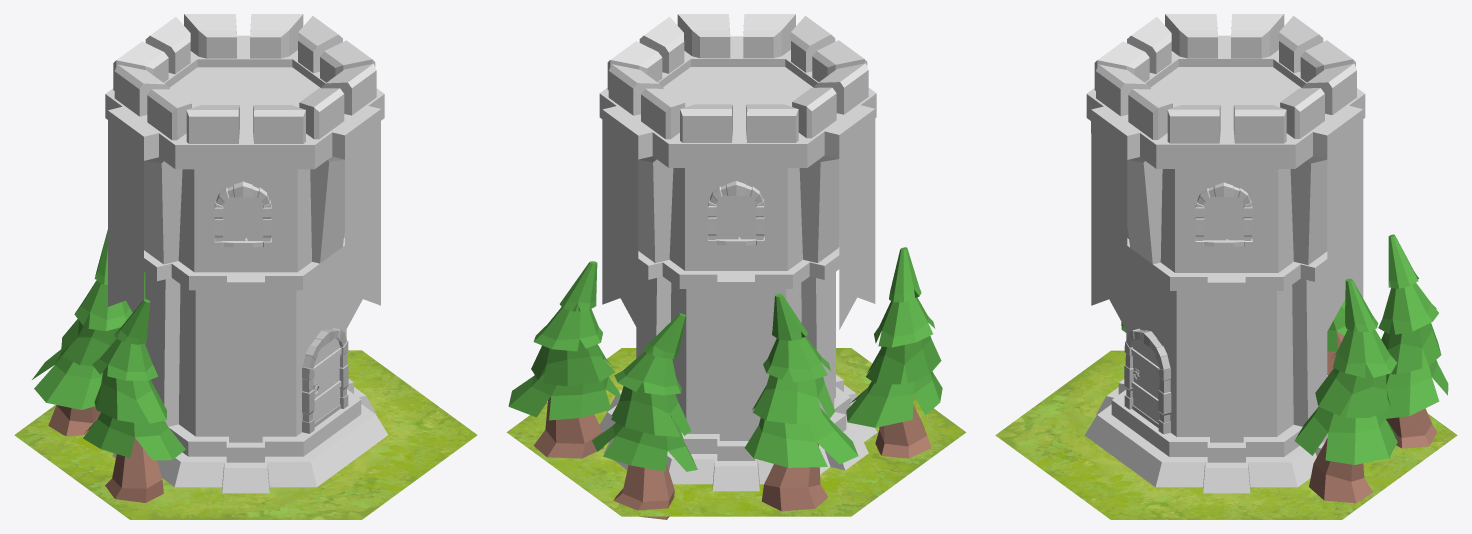
The model's file is Hex_flat_Tower.fbx.
3 views of the same model, side by side, from view 1: azimuth 30°, elevation 25°; view 2: azimuth 150°, elevation 25°; view 3: azimuth 270°, elevation 25° (orthographic).
Visible parts, largest first — view 1: Hex_flat_Tower; view 2: Hex_flat_Tower; view 3: Hex_flat_Tower.
Part boxes in pixels (box(x1,y1,x2,y2)): Hex_flat_Tower: box(14, 14, 477, 519); Hex_flat_Tower: box(506, 14, 966, 519); Hex_flat_Tower: box(995, 14, 1457, 519).
Bounding box in the file's own units: 0.8731 × 0.9277 × 1.
